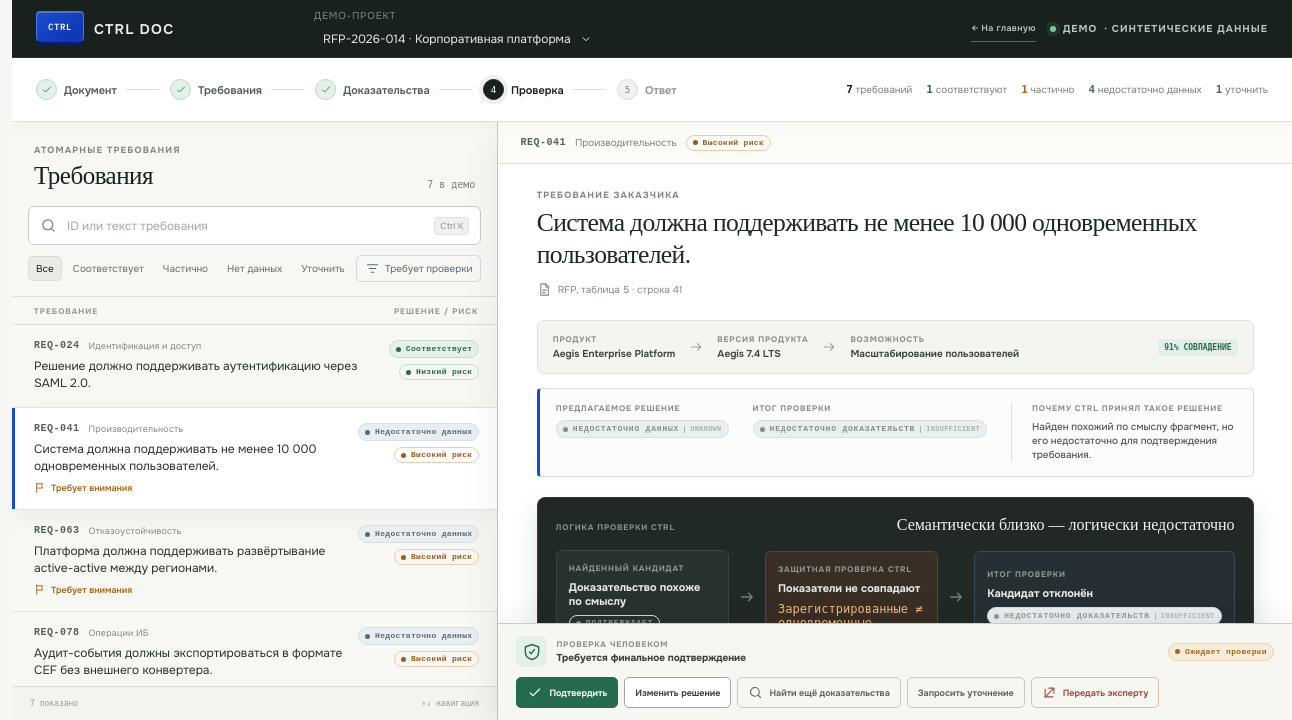
CTRL Intelligence Workbench › records human approval in local demo state only
Click the button "Подтвердить" at (567, 692), box top-left (516, 677), bottom-right (618, 708)
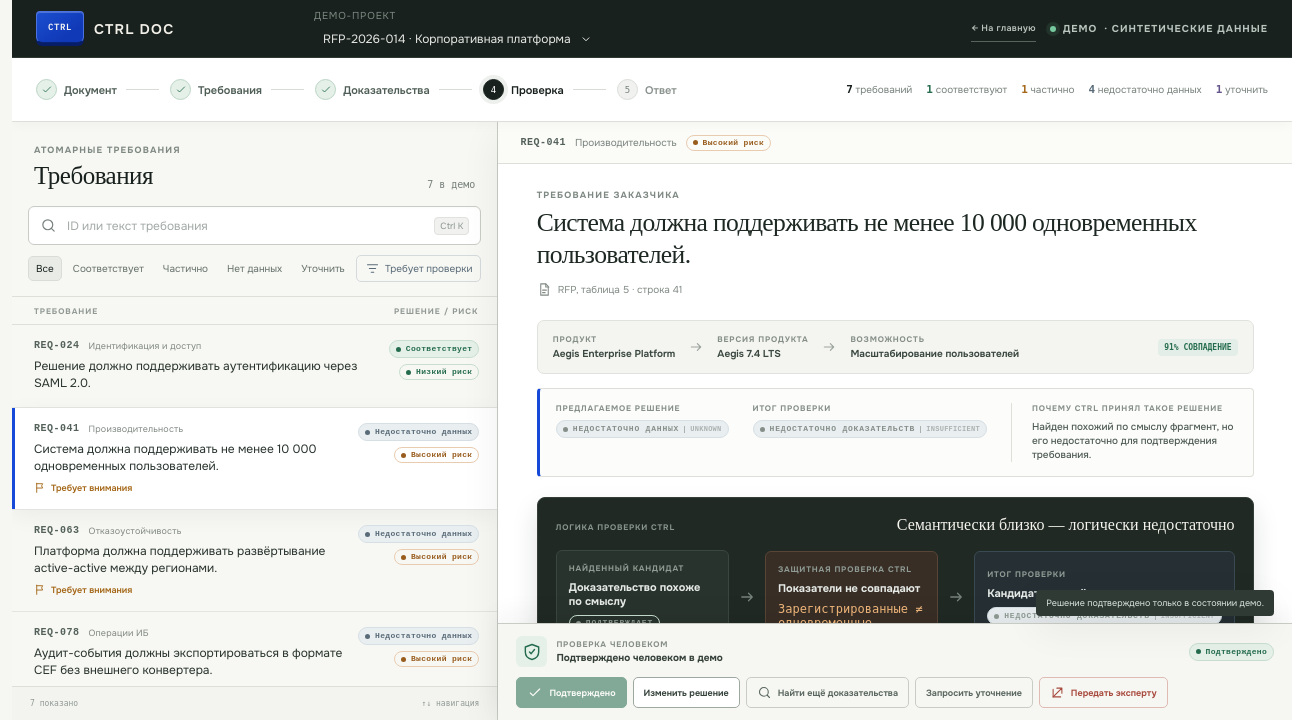
Expected: the text "Подтверждено человеком в демо" is shown, top-left (556, 651), bottom-right (723, 664)
Expected: the message shows "только в состоянии демо", top-left (1046, 597), bottom-right (1264, 609)
Expected: the button "Подтверждено" is disabled, top-left (516, 677), bottom-right (626, 708)
